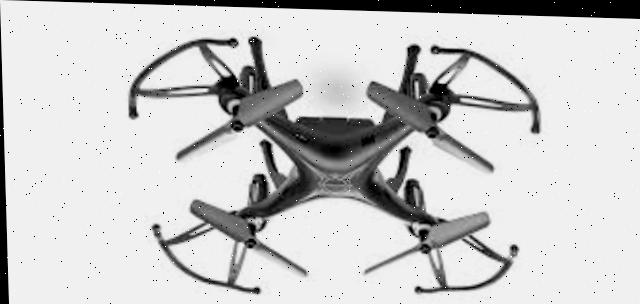drone: (113, 3, 552, 304)
